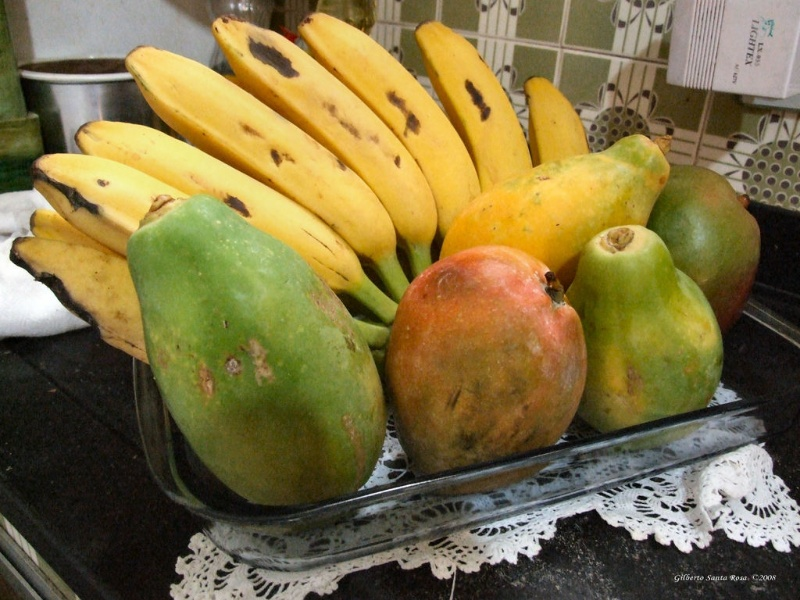banana: (116, 38, 464, 243)
